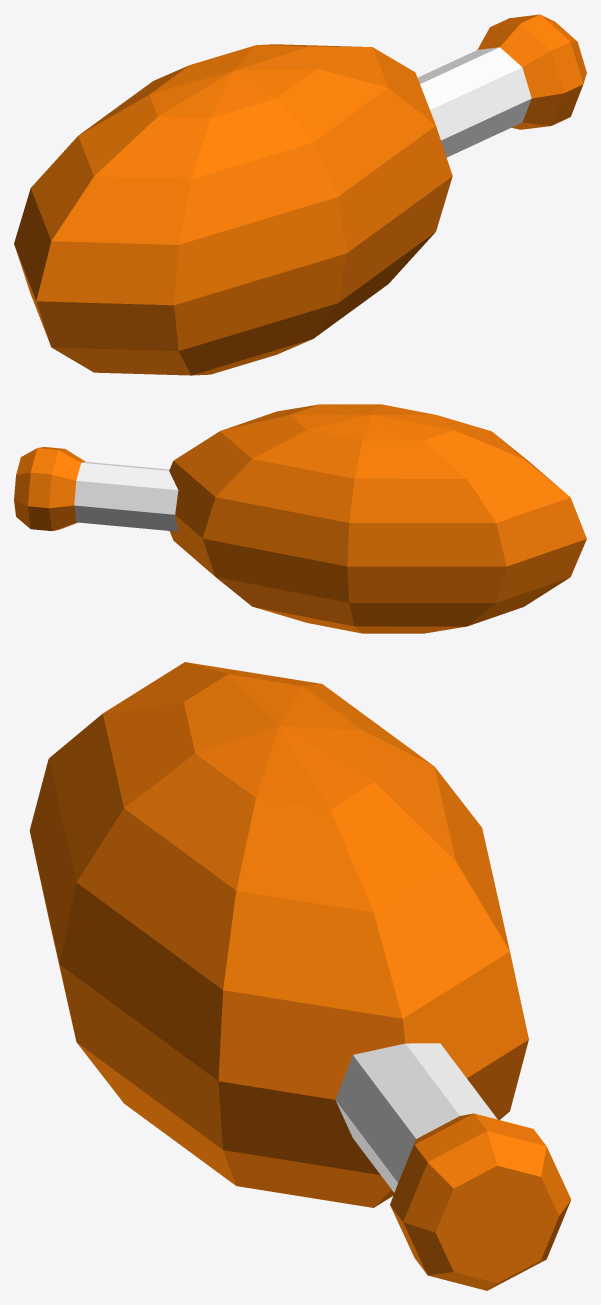
File: food.obj
3 views of the same model, one above another, from view 1: azimuth 30°, elevation 25°; view 2: azimuth 150°, elevation 25°; view 3: azimuth 270°, elevation 25° (orthographic). The views are drawn at different scales.
Visible parts, largest first — view 1: mChicken_leg_mMaterialO_0; view 2: mChicken_leg_mMaterialO_0; view 3: mChicken_leg_mMaterialO_0.
Boxes of the visible parts, x1,y1,x2,y2 form: mChicken_leg_mMaterialO_0: [14, 14, 586, 375]; mChicken_leg_mMaterialO_0: [14, 404, 586, 633]; mChicken_leg_mMaterialO_0: [29, 662, 571, 1290].
Bounding box in the file's own units: 0.4589 × 0.1882 × 0.2212.
Materials: 1 (1 with a texture image).
